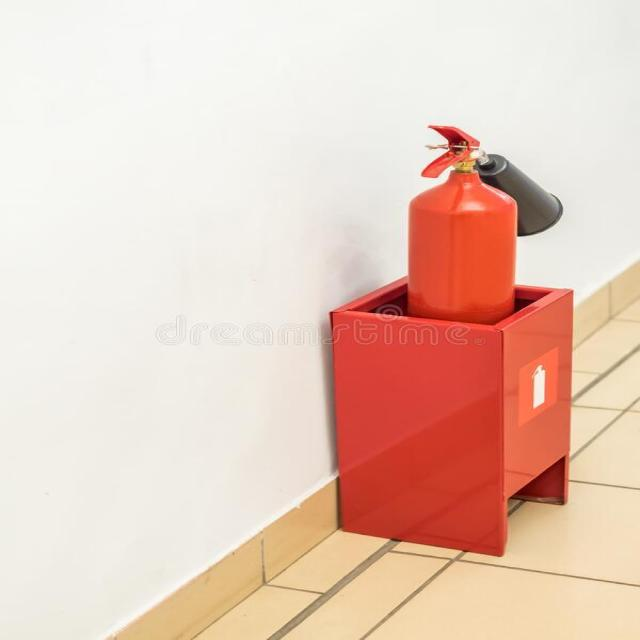fire_extinguisher: (388, 117, 566, 532)
